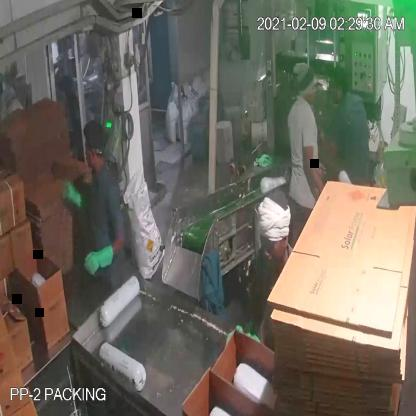glove: (76, 239, 123, 280), (59, 172, 90, 215)
no_glove: (294, 140, 332, 200)
